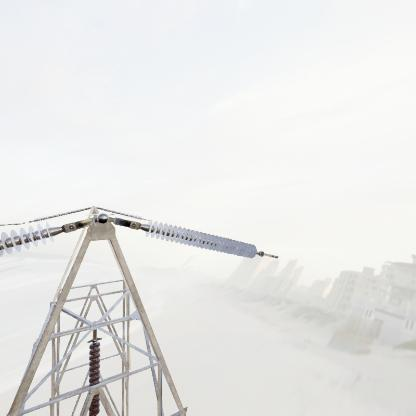insulator: (141, 213, 263, 261)
